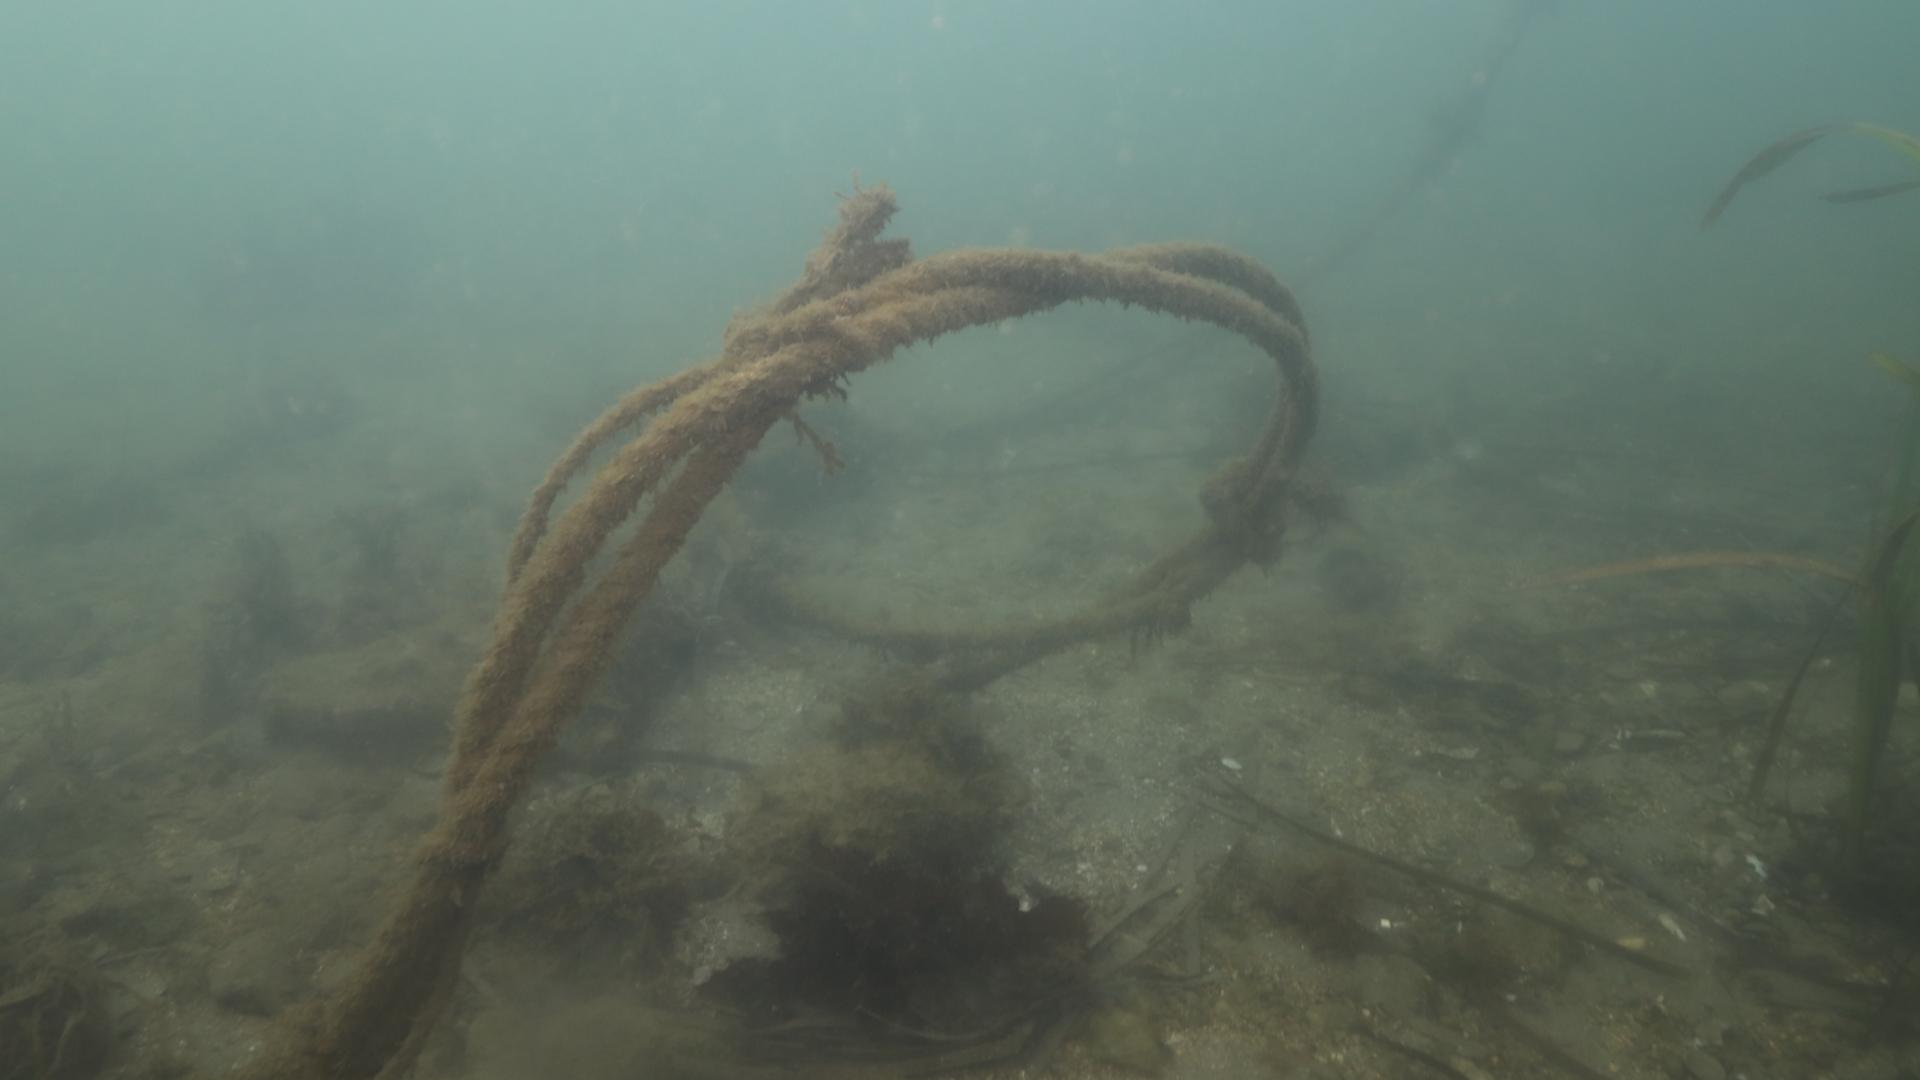bundle of ropes: (274, 187, 1331, 1080)
